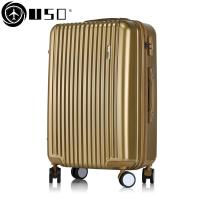luggage: (46, 15, 160, 187)
